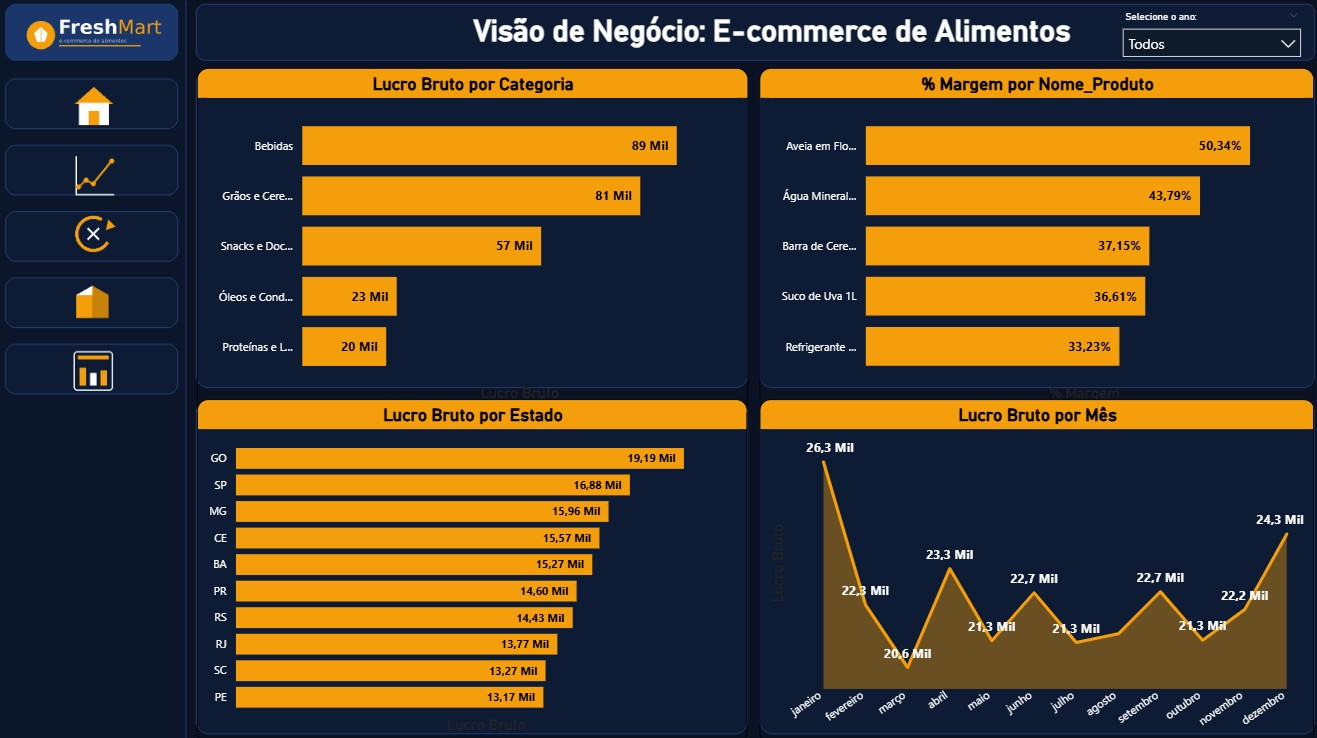

The dashboard page shown, as its layout file describes it:
{"tool":"powerbi","page":{"name":"Visão de Negócio","canvas":[1280,720],"ordinal":4},"visuals":[{"type":"image","box":[0,0,183.8,71.2],"z":0},{"type":"image","box":[23.8,80,138.8,48.8],"z":1000},{"type":"image","box":[17.5,145,152.5,52.5],"z":2000},{"type":"image","box":[60,187.5,65,81.2],"z":3000},{"type":"image","box":[63.8,268.8,56.2,46.2],"z":4000},{"type":"image","box":[67.5,332.5,50,53.8],"z":5000},{"type":"textbox","box":[387.5,10,721.2,52.5],"z":6000},{"type":"clusteredBarChart","fields":{"Y":["_Medidas.Lucro Bruto"],"Category":["dProdutos.Categoria"]},"box":[192.5,67.5,531.7,332.5],"z":7000},{"type":"clusteredBarChart","fields":{"Category":["dProdutos.Nome_Produto"],"Y":["_Medidas.% Margem"]},"box":[736.2,67.7,535.4,332.3],"z":8000},{"type":"barChart","fields":{"Y":["_Medidas.Lucro Bruto"],"Category":["fVendas.Estado"]},"box":[192.5,387.5,531.2,332.5],"z":9000},{"type":"areaChart","fields":{"Category":["dCalendario.Data.Variation.Hierarquia de datas.Mês"],"Y":["_Medidas.Lucro Bruto"]},"box":[735.9,387.3,535.7,333],"z":10000},{"type":"slicer","fields":{"Values":["dCalendario.Ano"]},"box":[1076.2,7.5,192.5,65],"z":11000}]}

Visuals, with their boxes on the page's 1280x720 design canvas (x1, y1, x2, y2). These are canvas units, not pixel positions in the 1317x738 screenshot, which may show the page scaled, cropped or inside an application window:
image: (0, 0, 184, 71)
image: (24, 80, 163, 129)
image: (18, 145, 170, 198)
image: (60, 188, 125, 269)
image: (64, 269, 120, 315)
image: (68, 332, 118, 386)
textbox: (388, 10, 1109, 62)
clusteredBarChart - _Medidas.Lucro Bruto x dProdutos.Categoria: (192, 68, 724, 400)
clusteredBarChart - dProdutos.Nome_Produto x _Medidas.% Margem: (736, 68, 1272, 400)
barChart - _Medidas.Lucro Bruto x fVendas.Estado: (192, 388, 724, 720)
areaChart - dCalendario.Data.Variation.Hierarquia de datas.Mês x _Medidas.Lucro Bruto: (736, 387, 1272, 720)
slicer - dCalendario.Ano: (1076, 8, 1269, 72)
